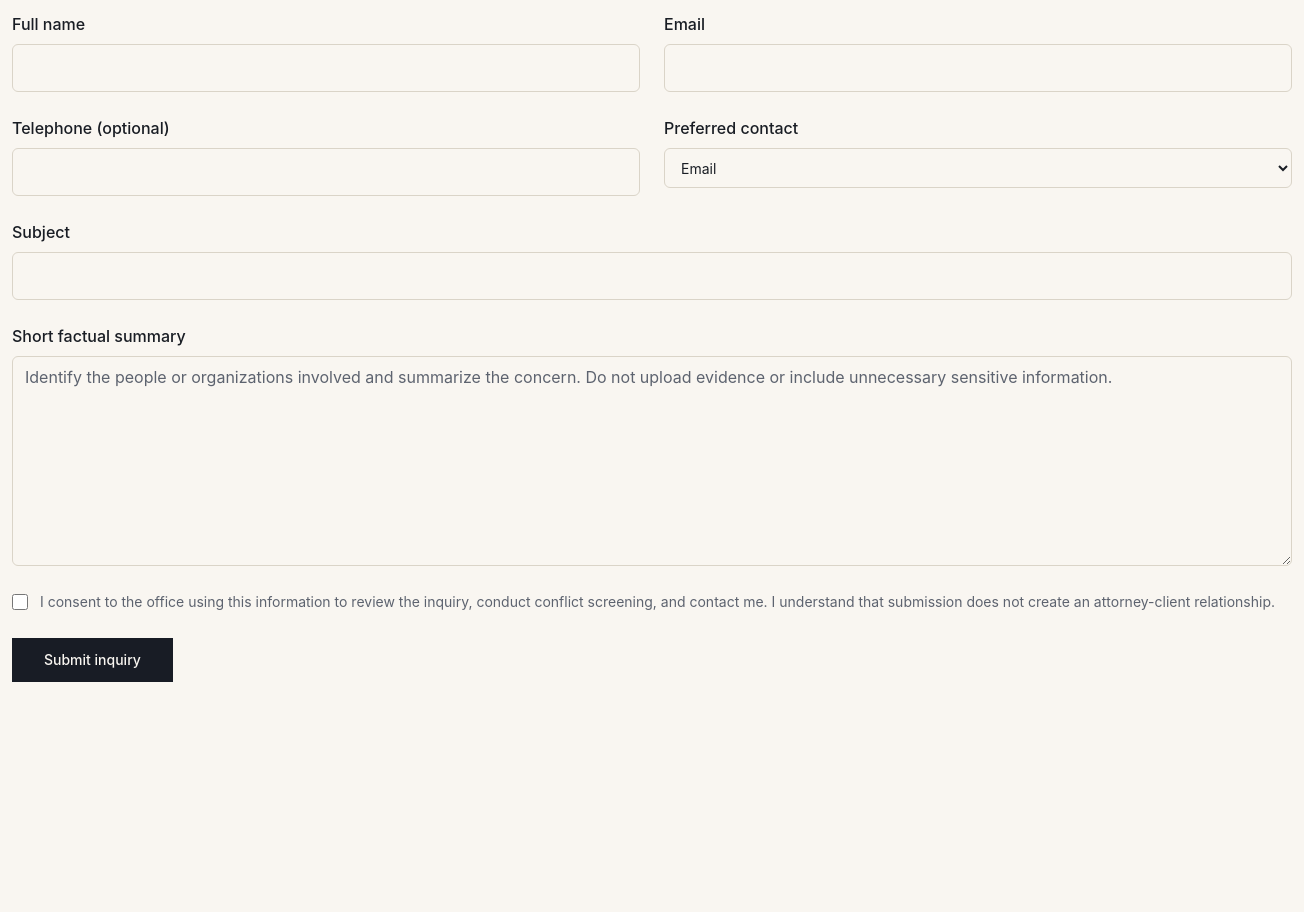
InquiryForm › submits a synthetic inquiry and displays the legal acknowledgment
In the field labelled "Full name": (326, 68) [12,44,640,92], type "Synthetic Client"
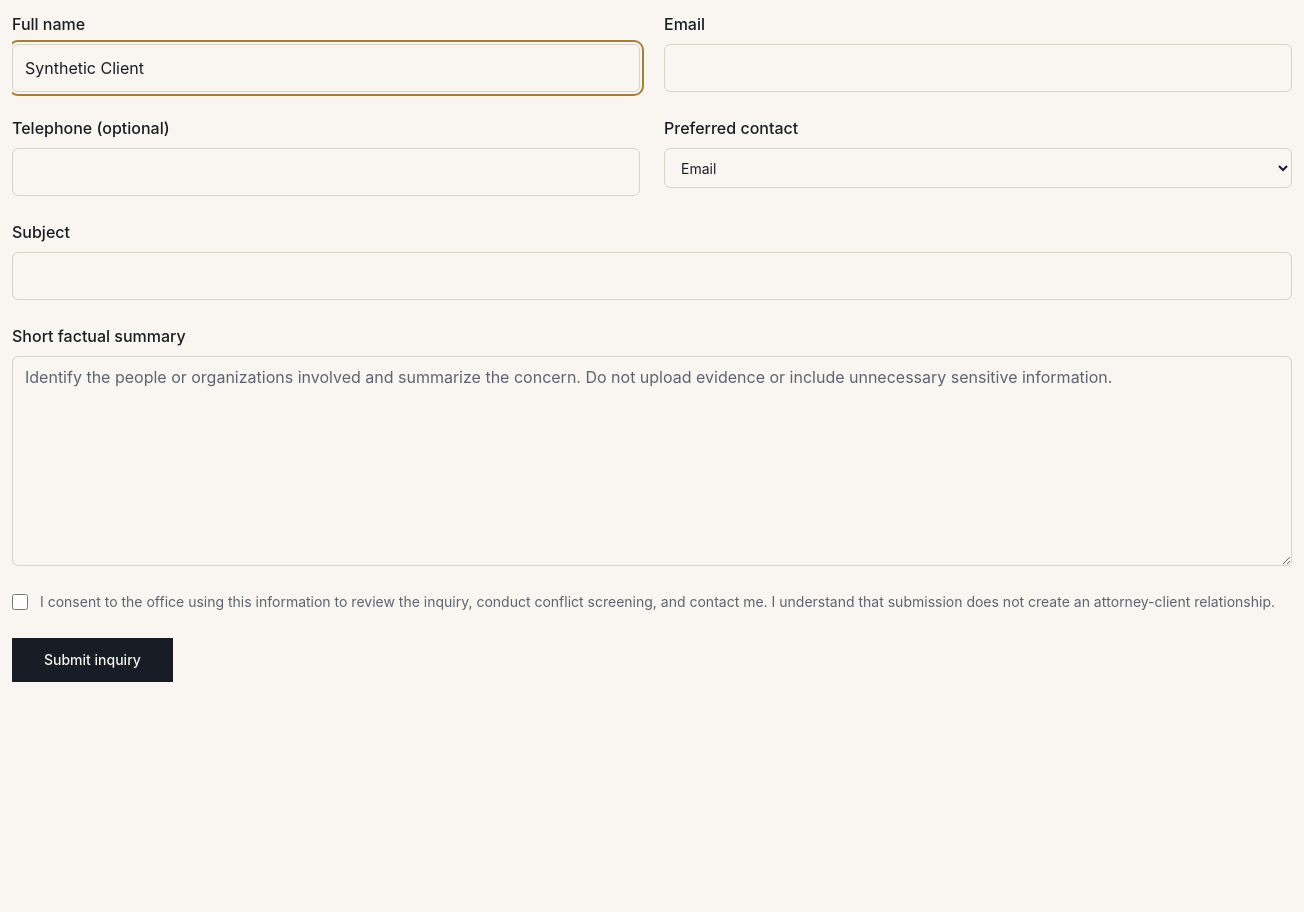
In the field labelled "Email": (978, 68) [664,44,1292,92], type "client@example.test"
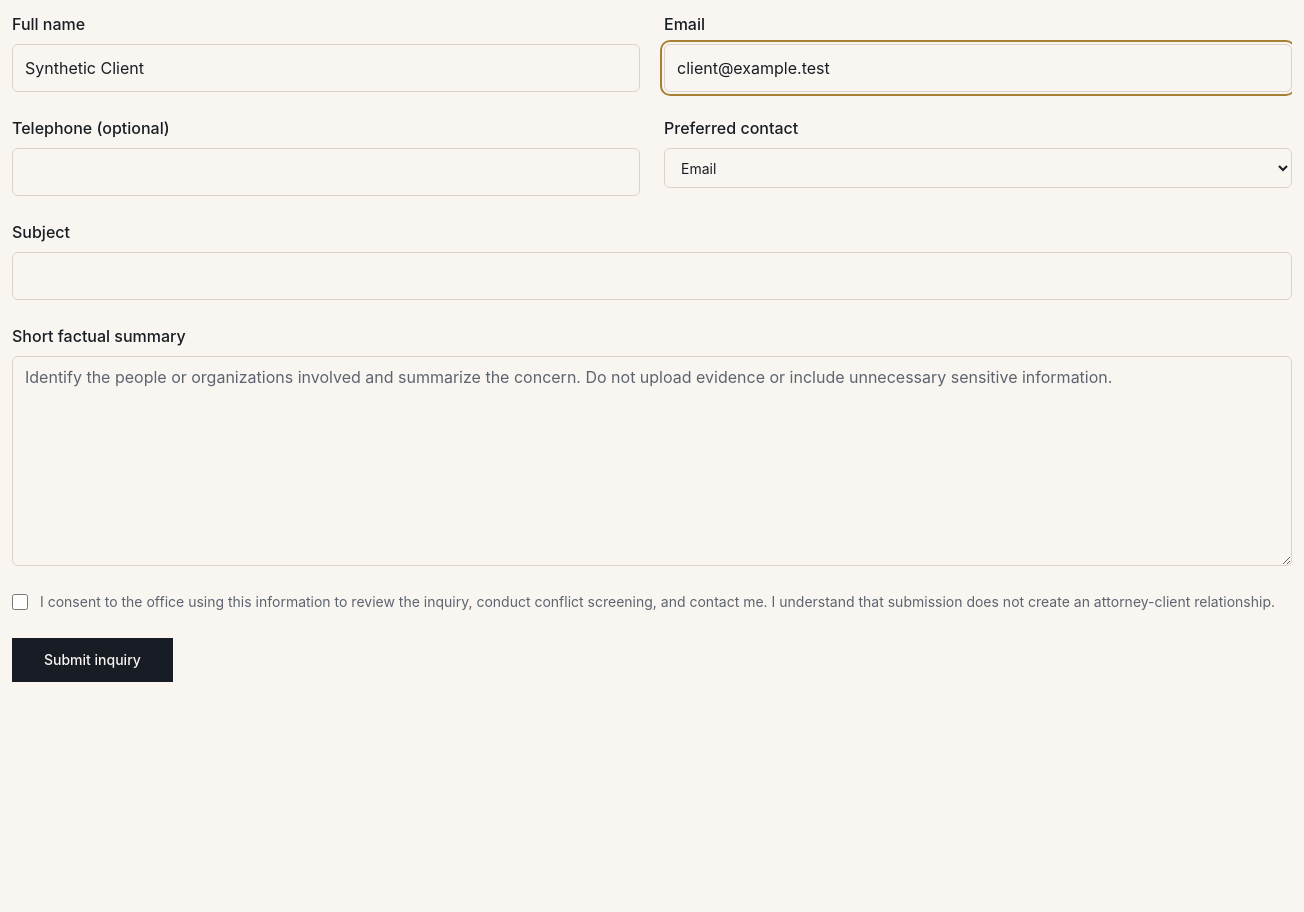
In the field labelled "Subject": (652, 276) [12,252,1292,300], type "Synthetic legal inquiry"
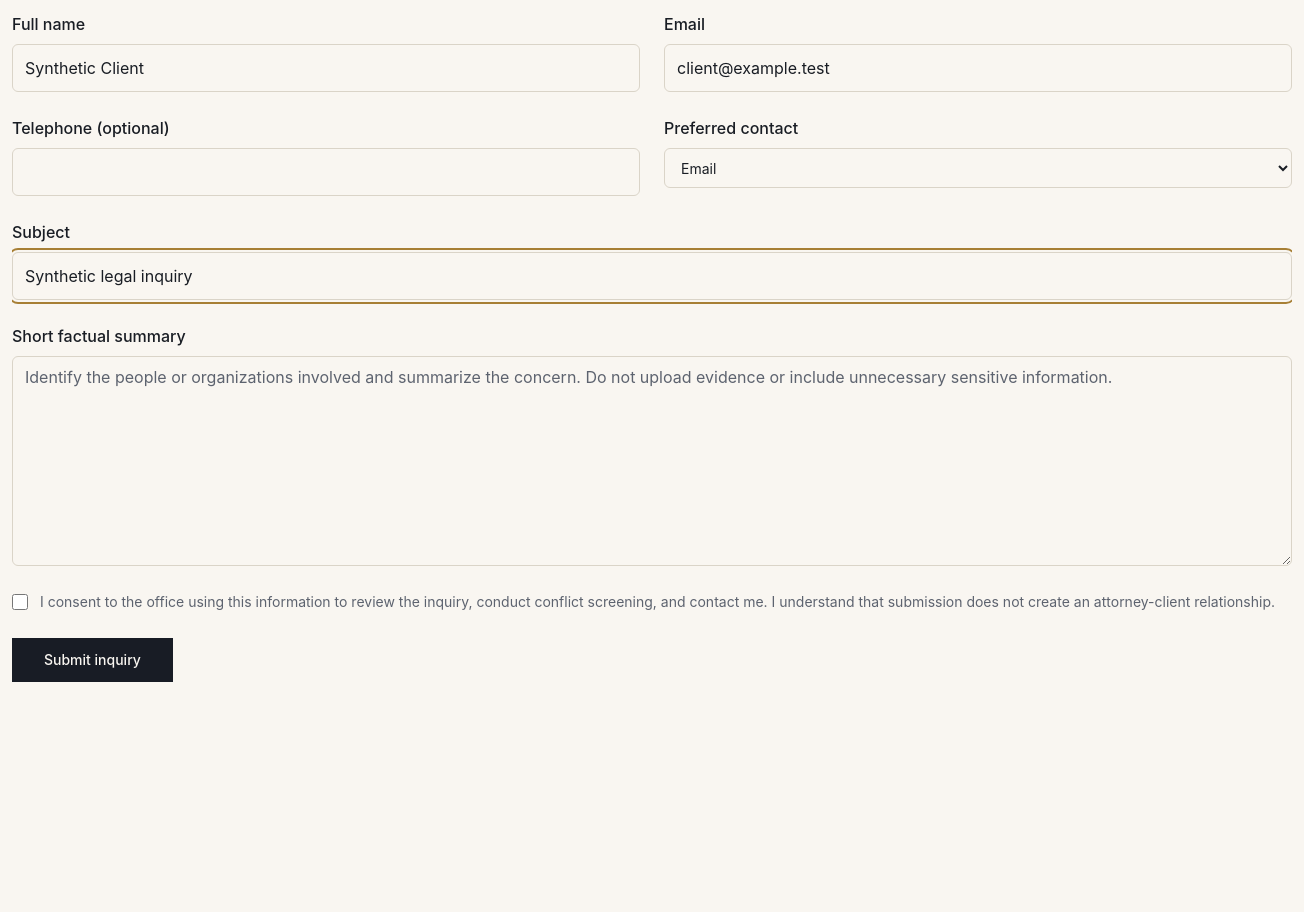
In the text box labelled "Short factual summary": (652, 461) [12,356,1292,566], type "This is a fictional inquiry used only for automated testing."
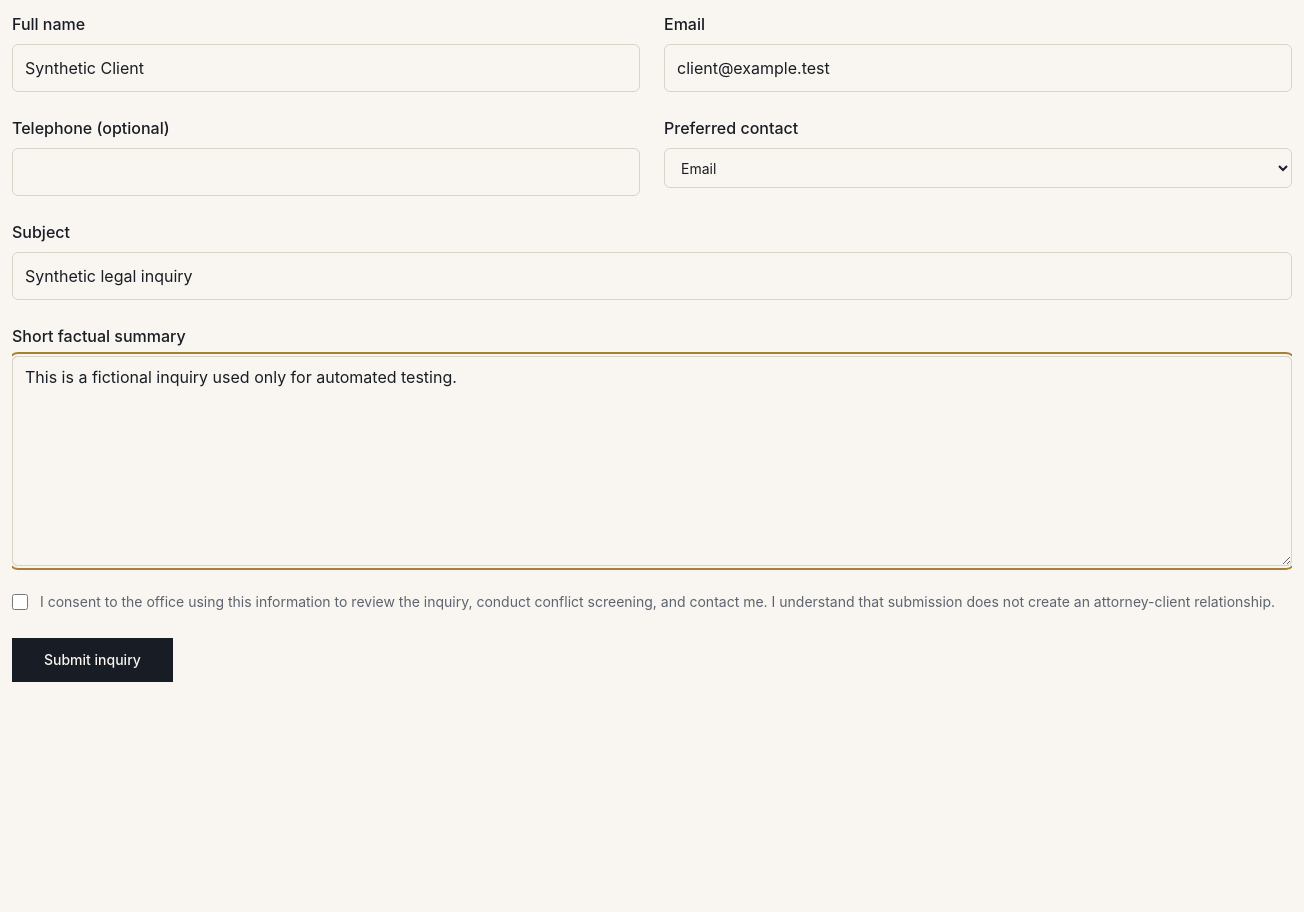
Click the checkbox: (20, 602) [12,594,28,610]
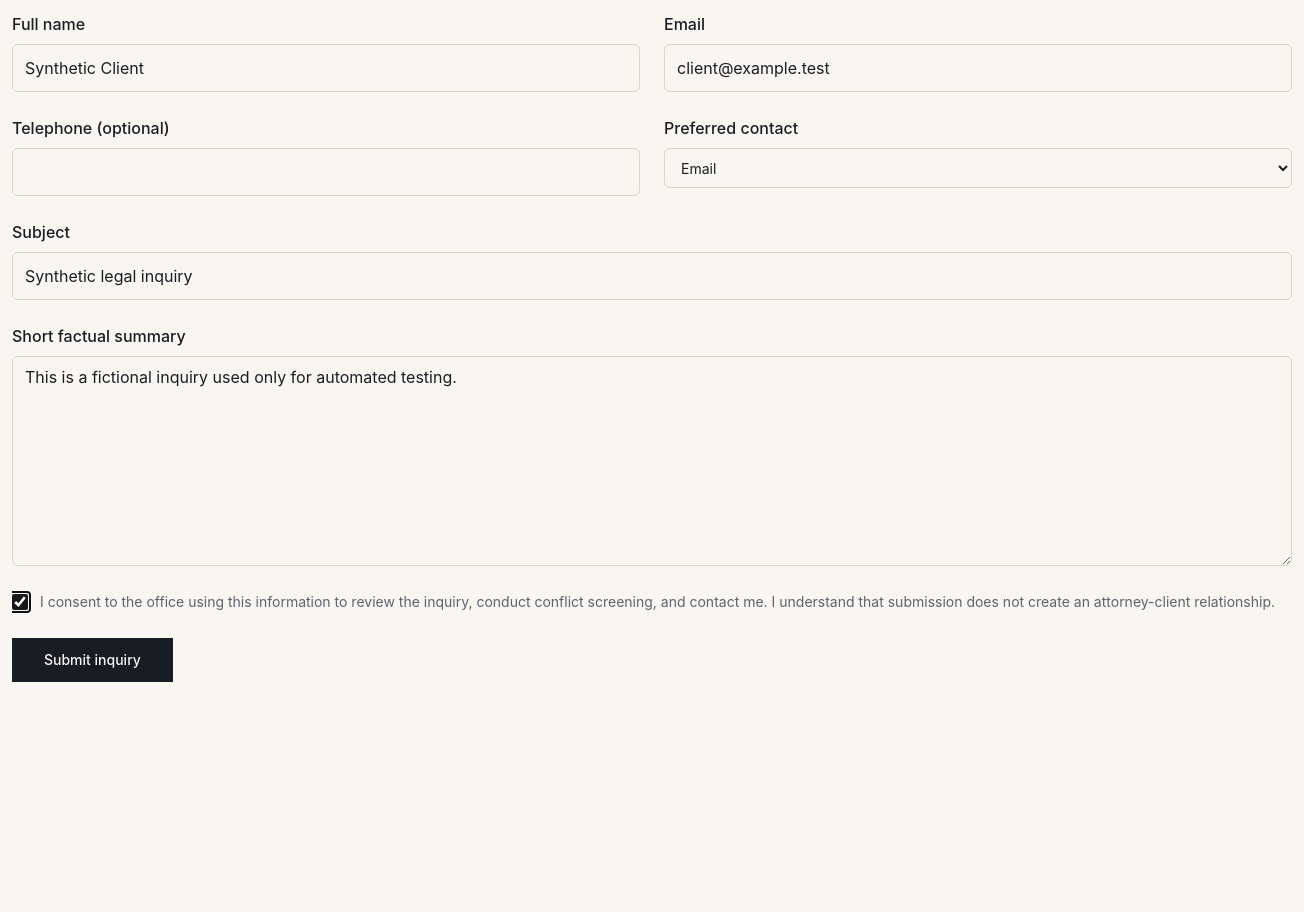
Click the button "Submit inquiry": (92, 660) [12,638,173,682]
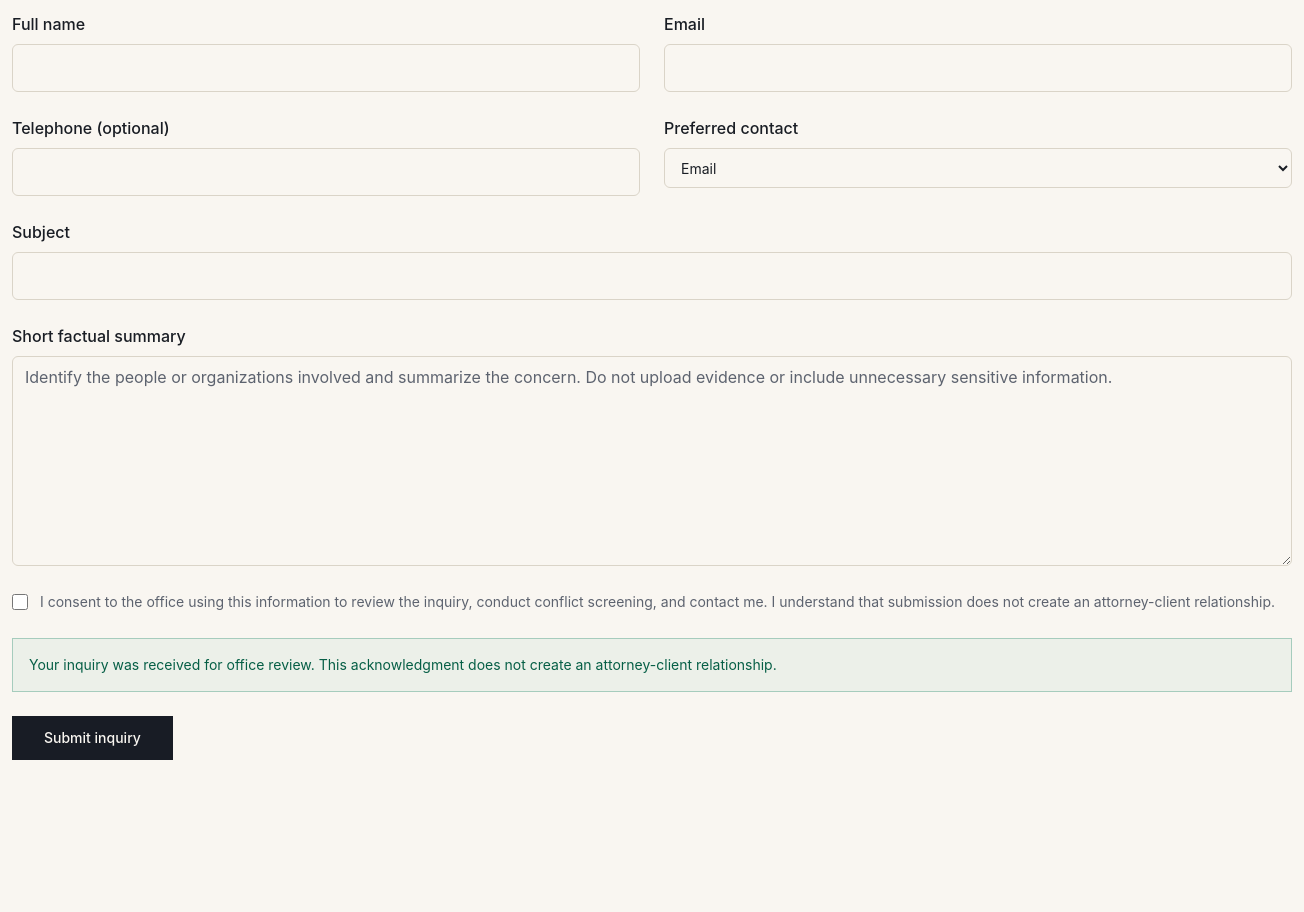
Check: the message shows "This acknowledgment does not create an attorney-client relationship.", box [29,656,777,673]
